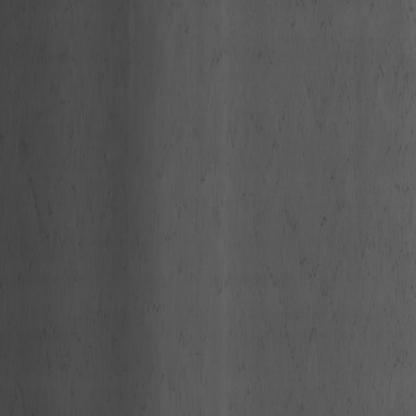silk_spot: (294, 57, 388, 298)
